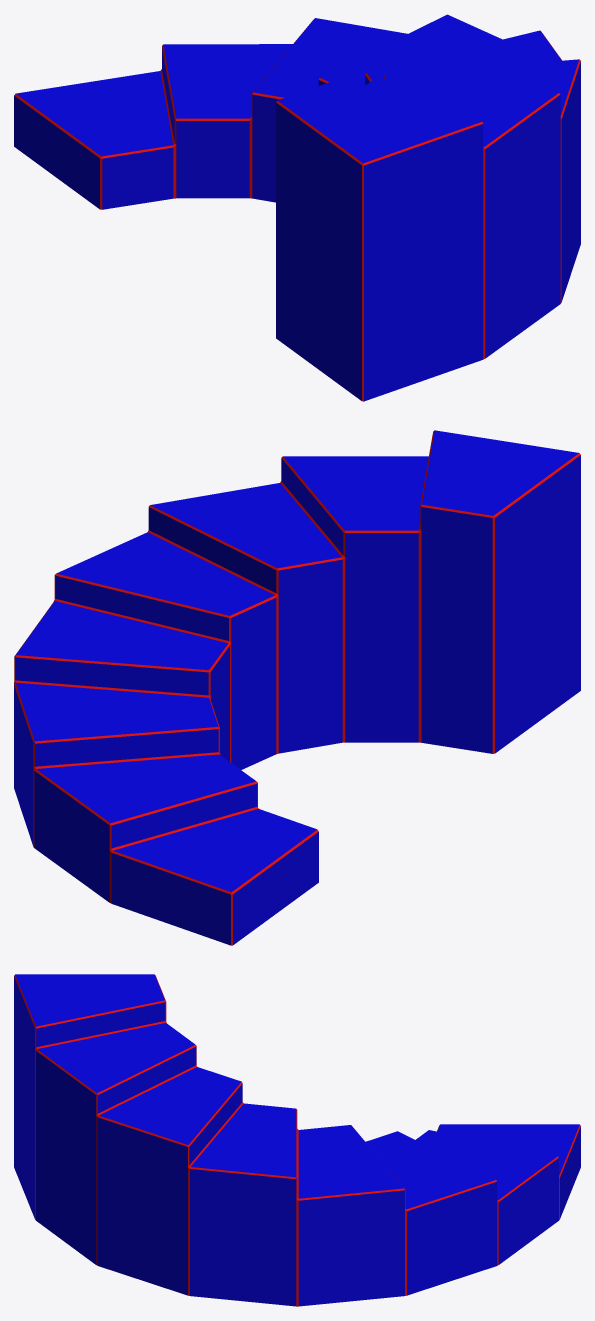
File: L1_Stairs_1.fbx
3 views of the same model, one above another, from view 1: azimuth 30°, elevation 25°; view 2: azimuth 150°, elevation 25°; view 3: azimuth 270°, elevation 25° (orthographic). The views are drawn at different scales.
Parts seen in each view (by area): view 1: L1_Stairs_1.001; view 2: L1_Stairs_1.001; view 3: L1_Stairs_1.001.
Part boxes in pixels (left/top/right/bottom): L1_Stairs_1.001: left=14, top=14, right=580, bottom=401; L1_Stairs_1.001: left=14, top=430, right=580, bottom=945; L1_Stairs_1.001: left=14, top=974, right=580, bottom=1306.
Size of the model in its own units: 1399 by 900 by 2398.
